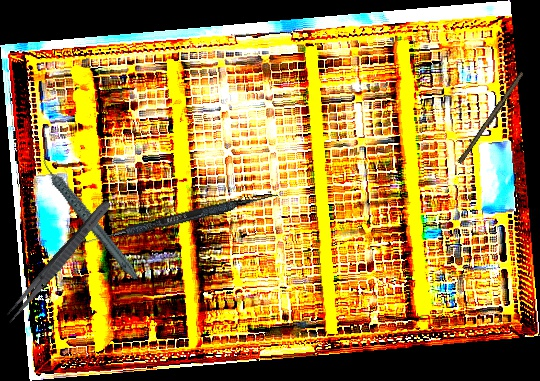Dressing Forceps: (1, 197, 115, 327)
Handpiece: (38, 138, 141, 295)
Scalpel Handle: (457, 69, 526, 167)
Spatula Surgical: (74, 186, 279, 252)
